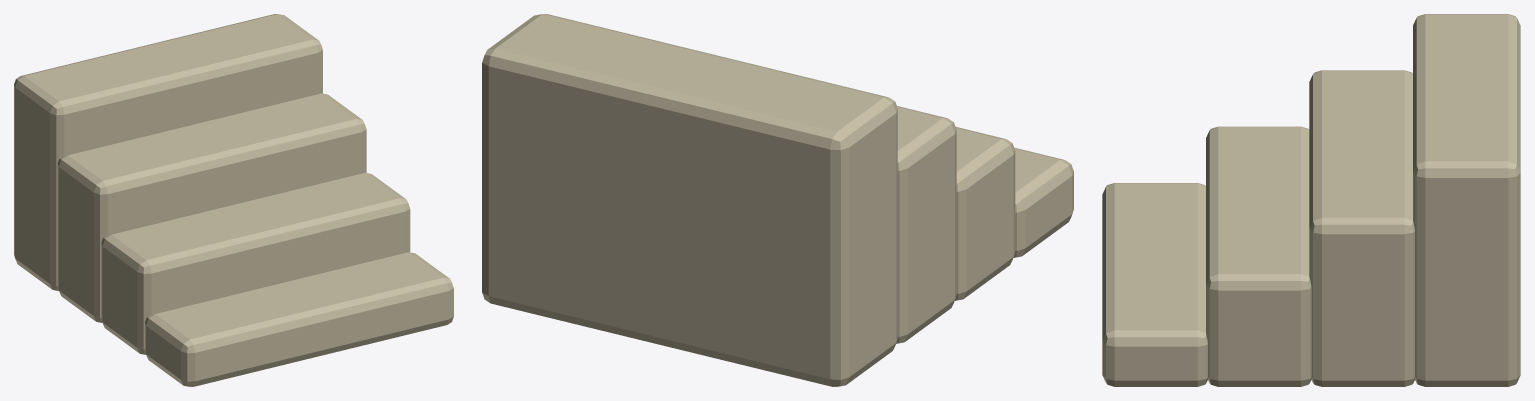
Rendered from Old_Stone_Steps_Barren.glb.
3 renders of one model, left to right at view 1: azimuth 30°, elevation 25°; view 2: azimuth 150°, elevation 25°; view 3: azimuth 270°, elevation 25°, orthographic. The views are drawn at different scales.
Visible parts, largest first — view 1: Structure; view 2: Structure; view 3: Structure.
Boxes of the visible parts, box(x1,y1,x2,y2) form: Structure: box(14, 14, 453, 386); Structure: box(482, 14, 1073, 386); Structure: box(1102, 14, 1520, 386).
Size of the model in its own units: 1.8 by 1.2 by 2.02.
